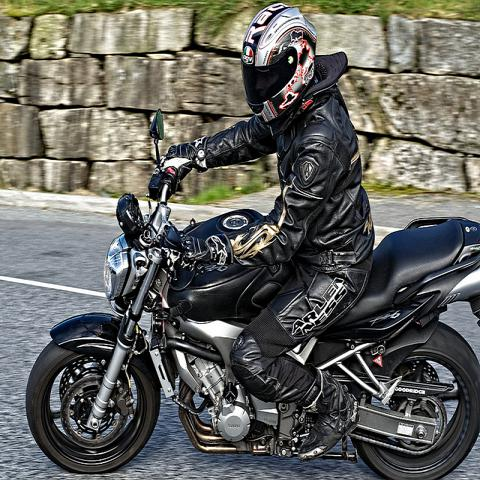motorcycle: (27, 107, 480, 475)
